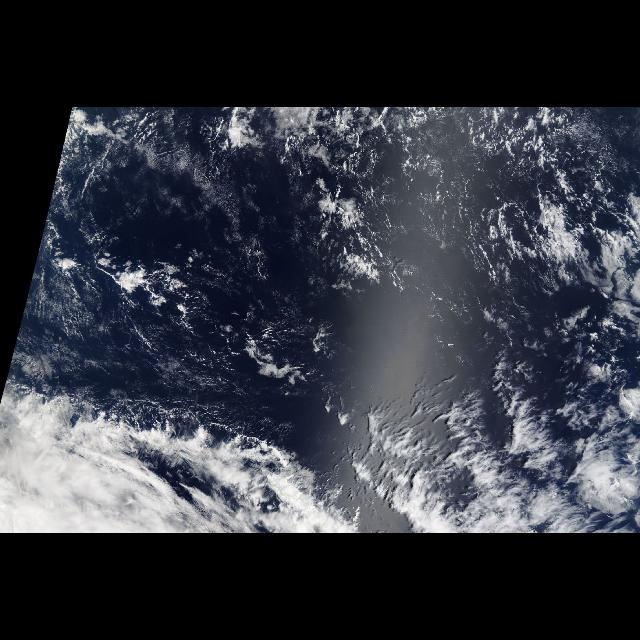Fish: (304, 367, 632, 495)
